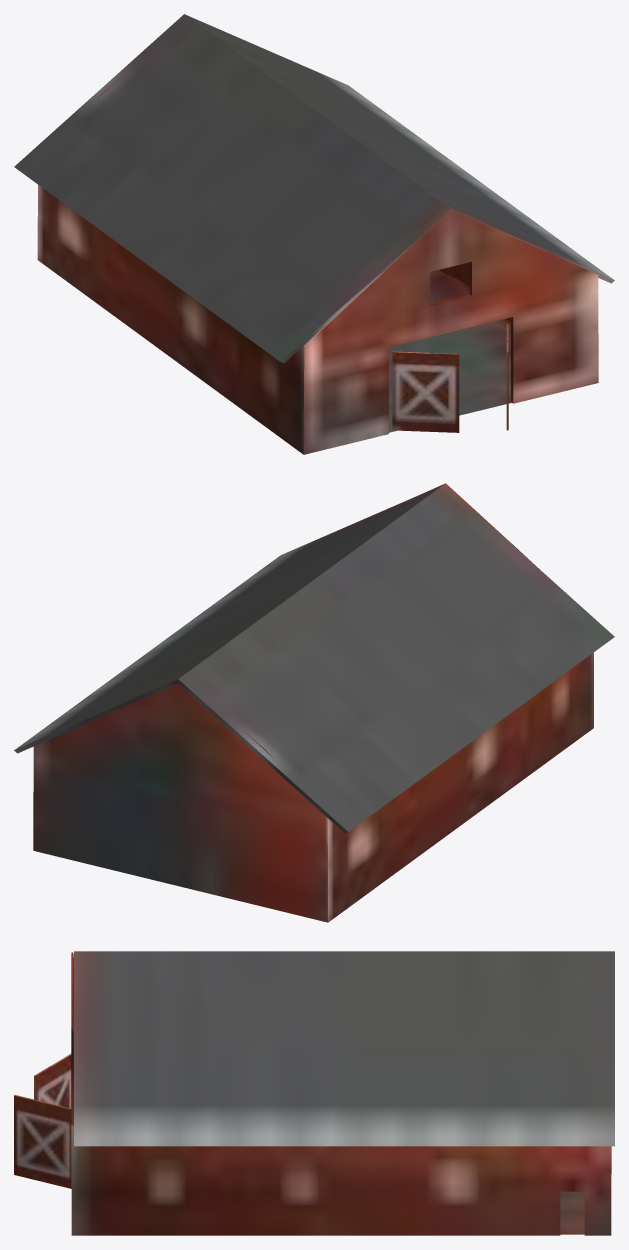
File: barn.fbx
3 renders of one model, top to bottom at view 1: azimuth 30°, elevation 25°; view 2: azimuth 150°, elevation 25°; view 3: azimuth 270°, elevation 25°, orthographic.
Parts seen in each view (by area): view 1: Plane.001; view 2: Plane.001; view 3: Plane.001.
Part boxes in pixels (x1,y1,x2,y2): Plane.001: [14, 14, 614, 454]; Plane.001: [14, 483, 614, 922]; Plane.001: [14, 951, 614, 1235].
Size of the model in its own units: 1612 by 961 by 2471.
